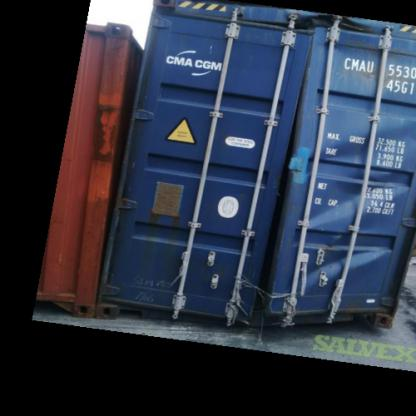Damage: (264, 131, 405, 328), (276, 10, 378, 40), (144, 202, 186, 258)
